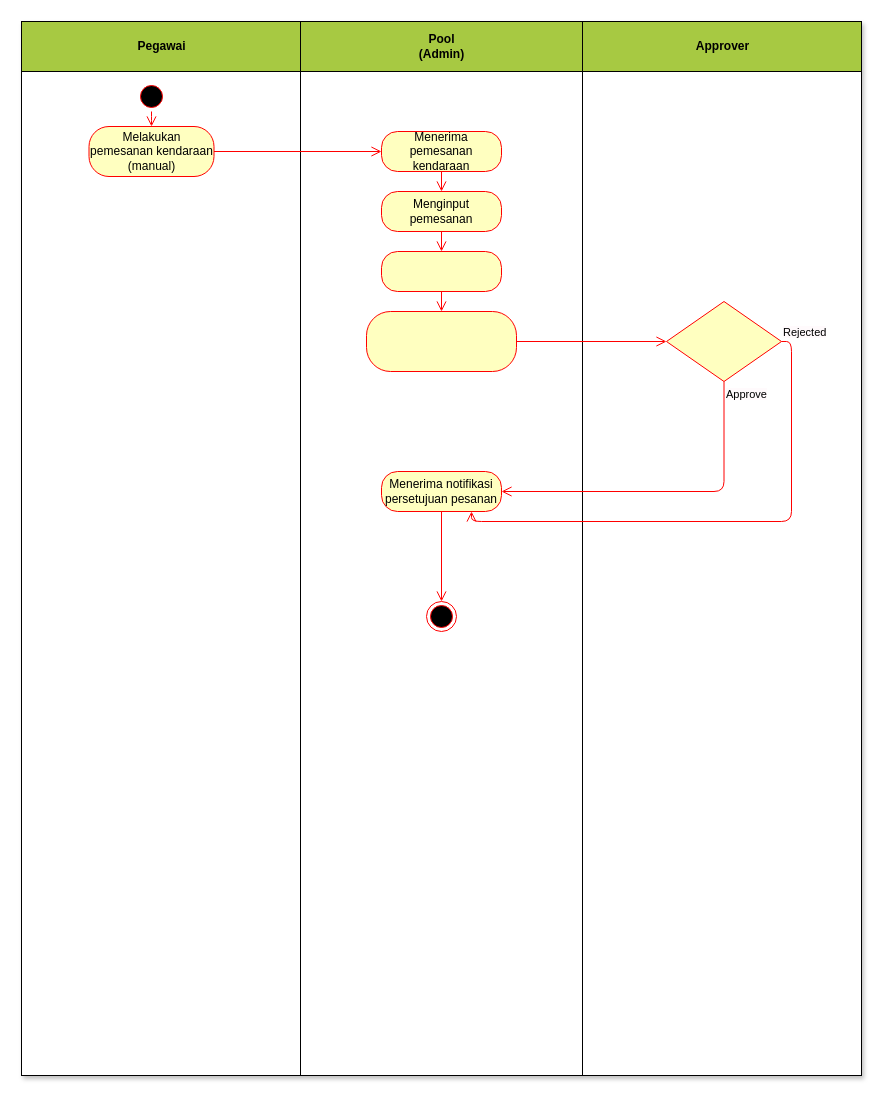
Image size: 885x1100. Some labels were removed from this diagram. The shapes that lost their labels are listed below. From the top down, each one's centre as x and y in pixels, then its label:
(441,271): Menentukan Driver
(441,341): Menentukan pihak yang menyetujui pemesanan (approver)
(724,341): Persetujuan pemesanan
